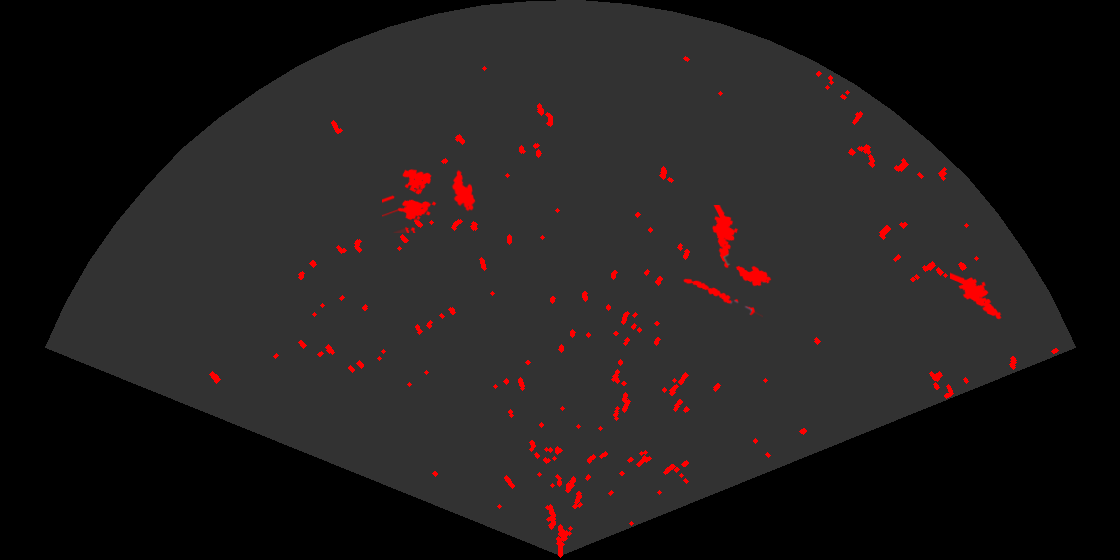AUV: (450, 168, 477, 213), (734, 264, 773, 288)
cage: (382, 167, 438, 233)
chain: (682, 277, 763, 319)
frogman: (950, 271, 1004, 321), (711, 205, 740, 270)
